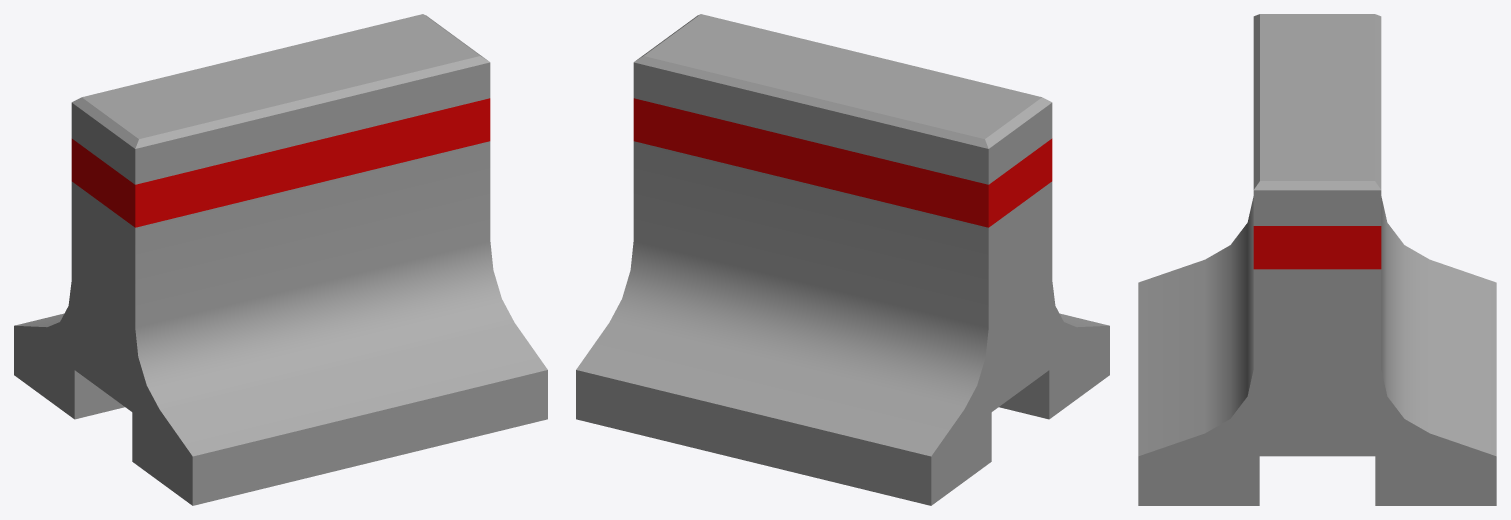
The model's file is BarrierRectangle.fbx.
The picture shows the model from 3 angles, left to right: view 1: azimuth 30°, elevation 25°; view 2: azimuth 150°, elevation 25°; view 3: azimuth 270°, elevation 25°; orthographic projection.
Visible parts, largest first — view 1: mesh_BarrierRectangle; view 2: mesh_BarrierRectangle; view 3: mesh_BarrierRectangle.
Part boxes in pixels (box(x1,y1,x2,y2)): mesh_BarrierRectangle: box(14, 14, 547, 505); mesh_BarrierRectangle: box(576, 14, 1109, 505); mesh_BarrierRectangle: box(1138, 14, 1496, 505).
Bounding box in the file's own units: 1 × 0.8627 × 0.8715.
